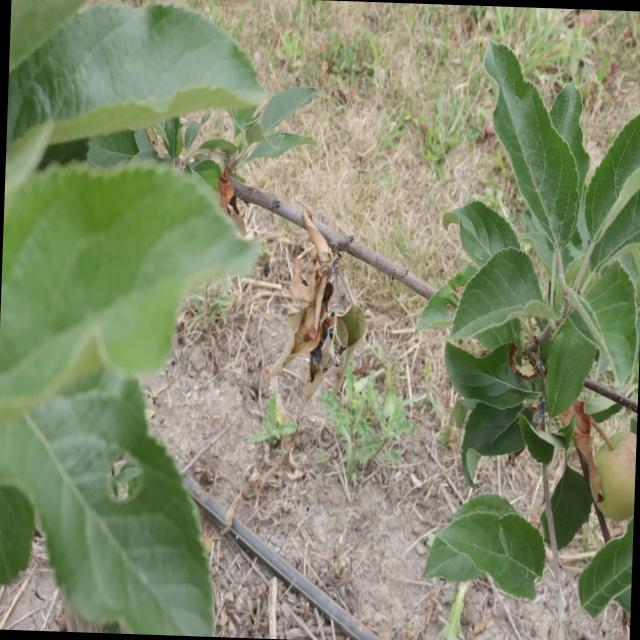-FireBlight-: (281, 248, 355, 389), (562, 396, 599, 494), (214, 156, 246, 229), (298, 206, 330, 272)
